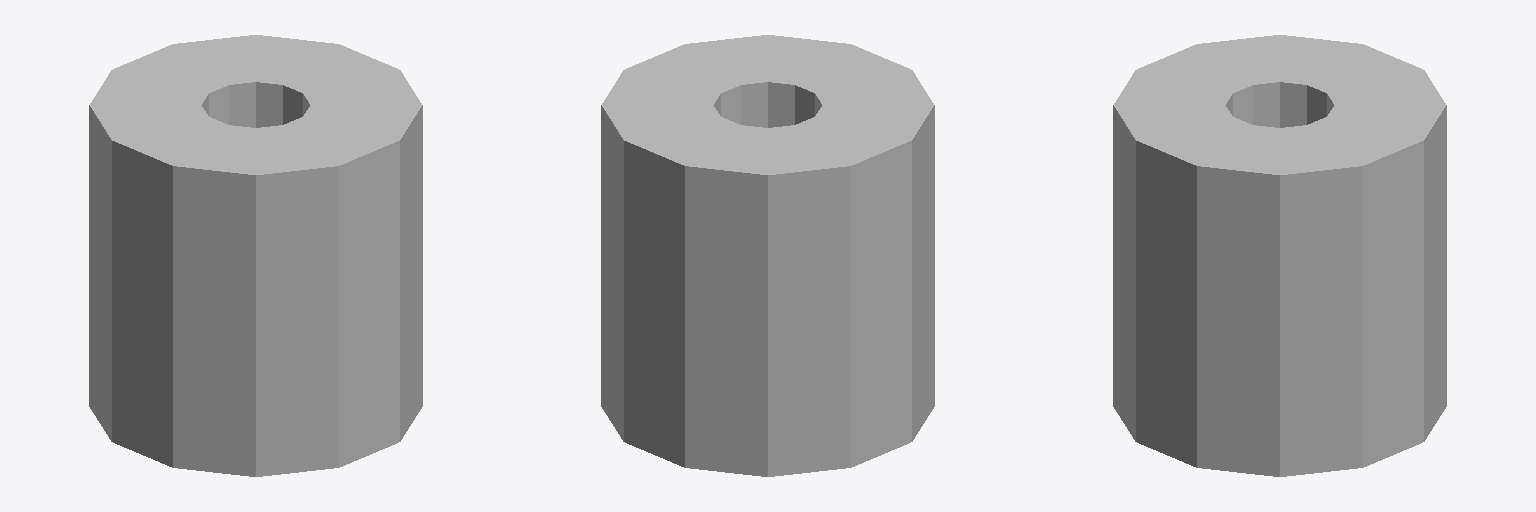
File: Rollo_Papel.obj
The picture shows the model from 3 angles: view 1: azimuth 30°, elevation 25°; view 2: azimuth 150°, elevation 25°; view 3: azimuth 270°, elevation 25°; orthographic projection.
Parts seen in each view (by area): view 1: Rollo_Papel_PIVOT Kitchen_Props Cocina; view 2: Rollo_Papel_PIVOT Kitchen_Props Cocina; view 3: Rollo_Papel_PIVOT Kitchen_Props Cocina.
Part boxes in pixels (x1,y1,x2,y2): Rollo_Papel_PIVOT Kitchen_Props Cocina: (89, 35, 422, 476); Rollo_Papel_PIVOT Kitchen_Props Cocina: (601, 35, 934, 476); Rollo_Papel_PIVOT Kitchen_Props Cocina: (1113, 35, 1446, 476).
Bounding box in the file's own units: 29.84 × 29.84 × 29.84.